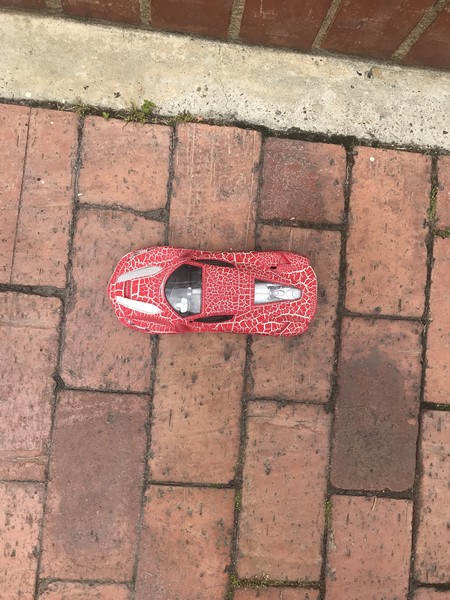RC: (105, 239, 321, 337)
